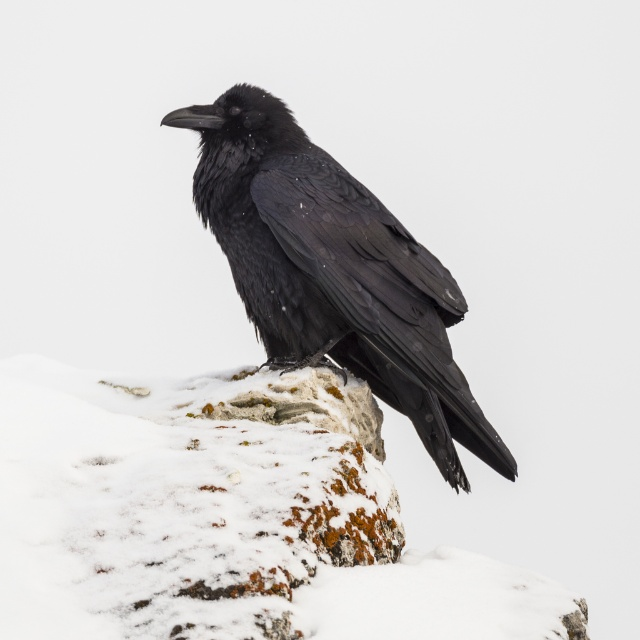Raven: (159, 83, 519, 495)
